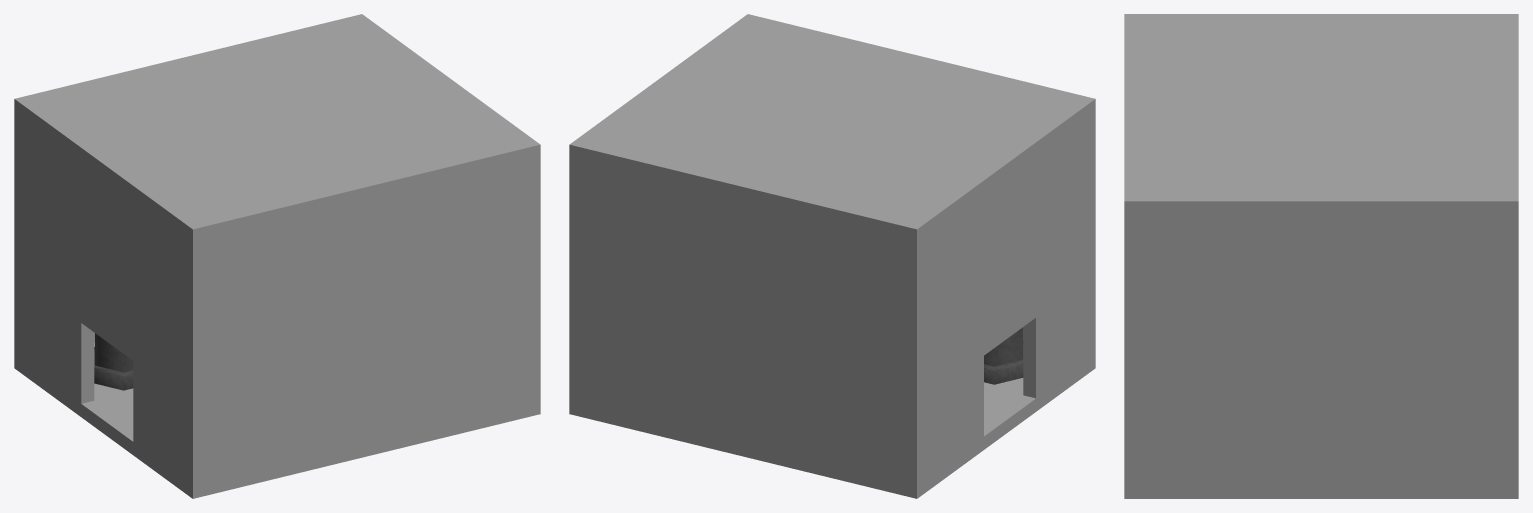
File: SpawnTest2.fbx
The picture shows the model from 3 angles, left to right: view 1: azimuth 30°, elevation 25°; view 2: azimuth 150°, elevation 25°; view 3: azimuth 270°, elevation 25°; orthographic projection. The views are drawn at different scales.
Parts seen in each view (by area): view 1: Walling2, Roofing, WallingDoor, Ground, Walling3, Walling1, SpawnPillar4; view 2: Walling1, Roofing, WallingDoor, Ground, Walling3, Walling2, SpawnPillar3; view 3: Walling3, Roofing, WallingDoor.
Part boxes in pixels (left/top/right/bottom): Walling2: left=185, top=175, right=527, bottom=498; Roofing: left=14, top=14, right=540, bottom=255; WallingDoor: left=14, top=96, right=205, bottom=484; Ground: left=15, top=342, right=525, bottom=498; Walling3: left=527, top=171, right=540, bottom=416; Walling1: left=14, top=126, right=94, bottom=373; SpawnPillar4: left=94, top=333, right=133, bottom=390; Walling1: left=582, top=175, right=924, bottom=498; Roofing: left=569, top=14, right=1095, bottom=255; WallingDoor: left=904, top=96, right=1095, bottom=485; Ground: left=584, top=360, right=1095, bottom=498; Walling3: left=569, top=171, right=582, bottom=416; Walling2: left=1023, top=126, right=1095, bottom=373; SpawnPillar3: left=984, top=327, right=1023, bottom=384; Walling3: left=1124, top=231, right=1518, bottom=498; Roofing: left=1124, top=14, right=1518, bottom=230; WallingDoor: left=1124, top=14, right=1518, bottom=20.
Bounding box in the file's own units: 13.5 × 10 × 12.
